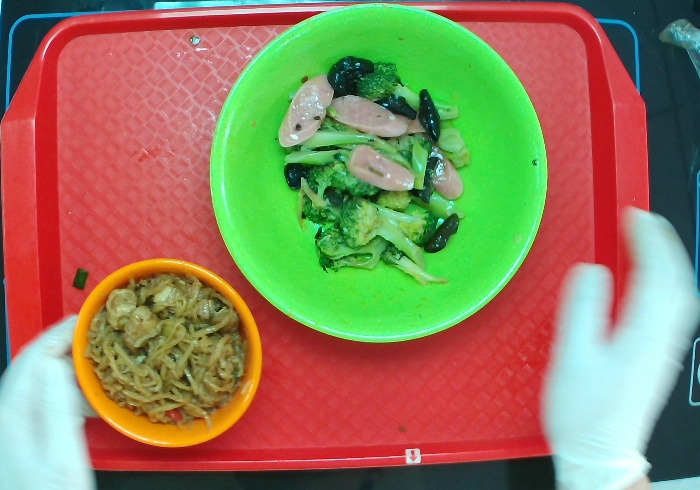YKMZ-Ju_Se_Yuan_Wan: (67, 254, 269, 453)
YKMZ-Lv_Se_Tang_Wan: (206, 1, 552, 350)
